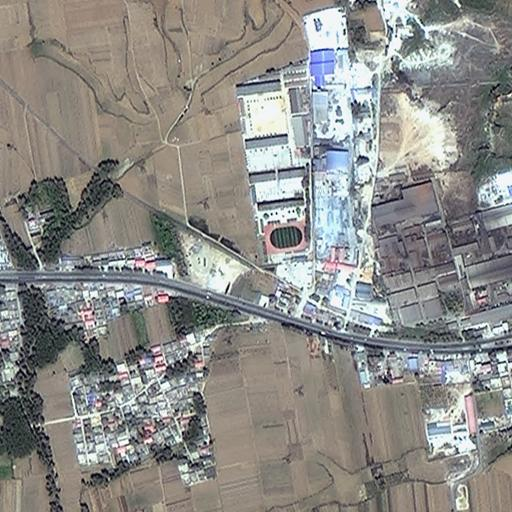school: (232, 70, 308, 258)
